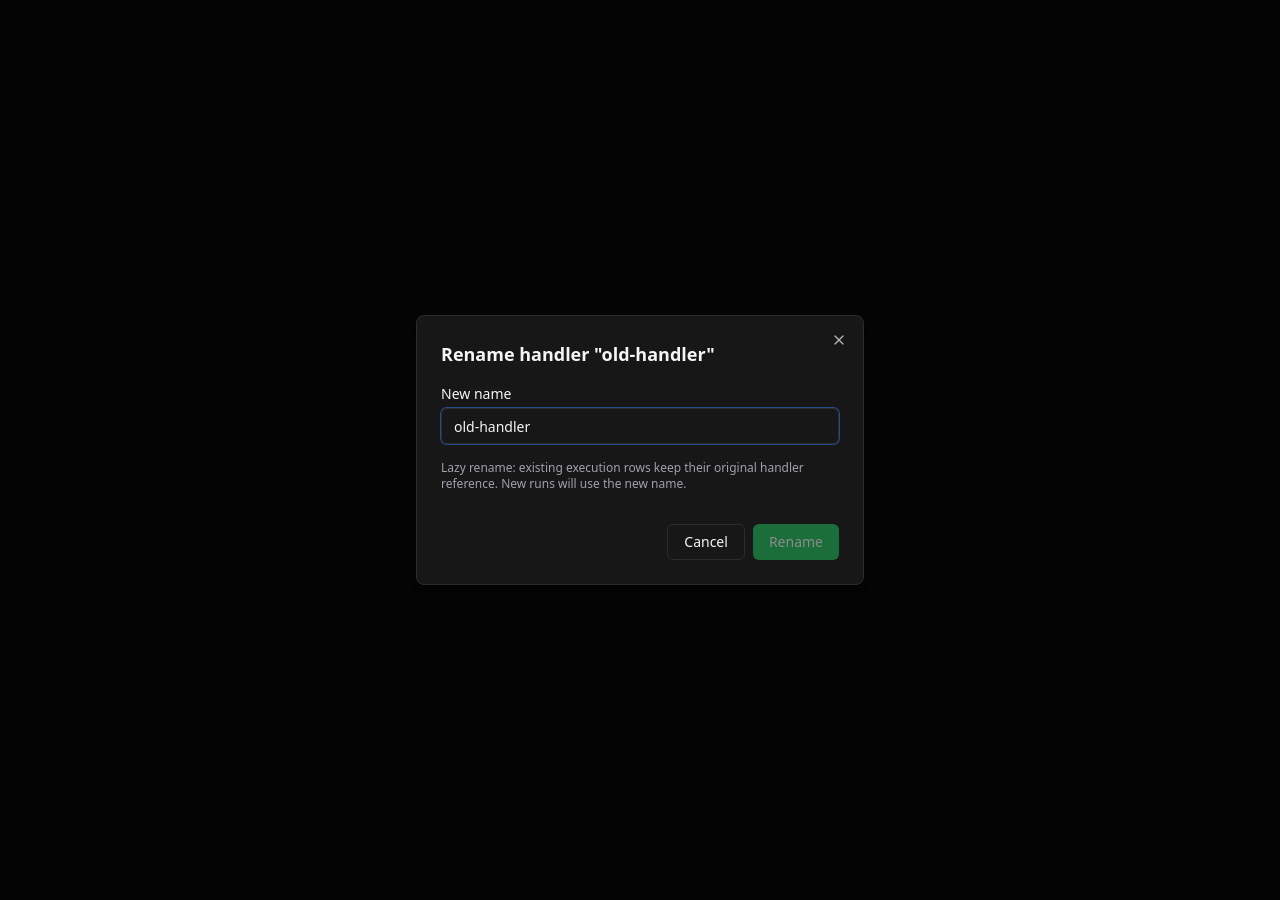
RenameHandlerDialog › disables the Rename button when name is invalid
Replace the text in the field labelled "New name" with "Bad Name" at (640, 426), box left=441, top=408, right=839, bottom=444
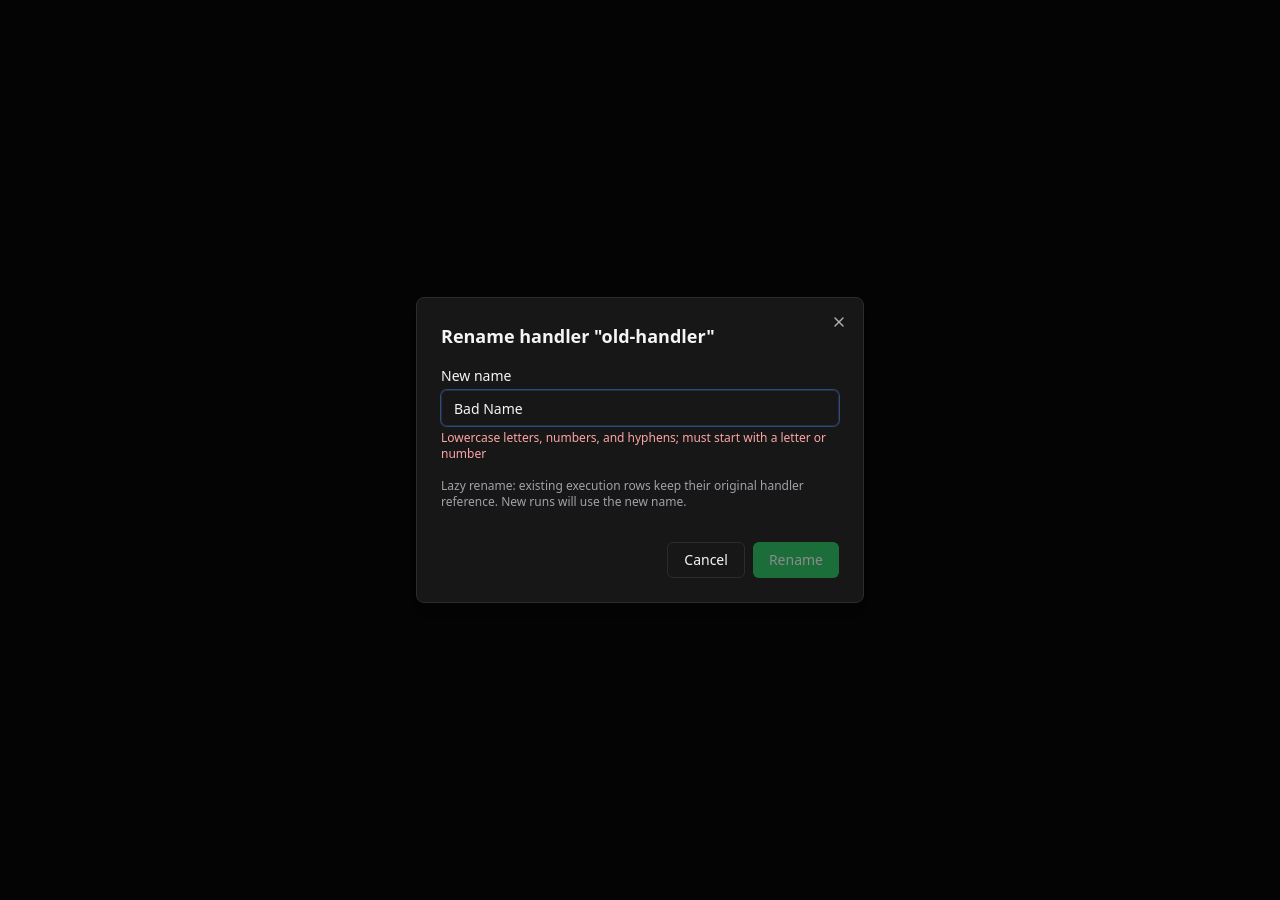
Check: the button "Rename" is disabled, box left=753, top=542, right=839, bottom=578
Check: the text "Lowercase letters, numbers, and hyphens" is shown, box left=441, top=429, right=826, bottom=462
